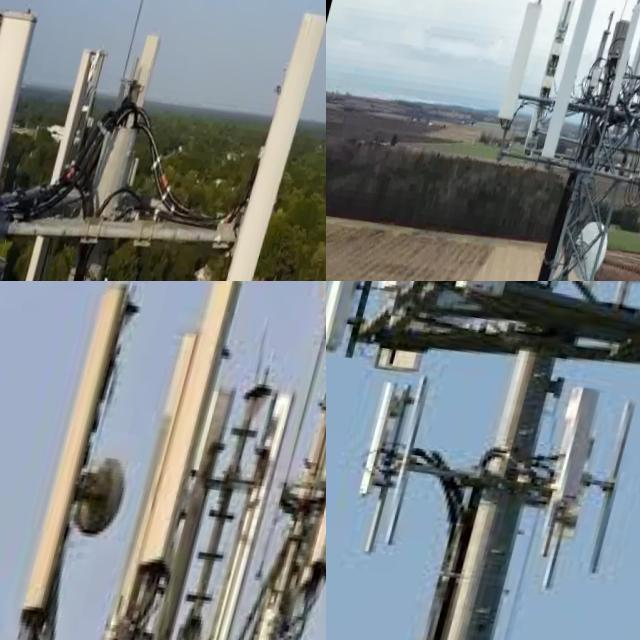GSM Antenna: (17, 281, 136, 616), (141, 281, 251, 578), (193, 382, 301, 640), (234, 6, 326, 281), (22, 37, 112, 281), (347, 375, 446, 512), (543, 386, 625, 525), (544, 0, 611, 167), (326, 281, 402, 371), (530, 0, 583, 126), (499, 0, 551, 122), (128, 29, 169, 115), (609, 5, 640, 110), (622, 4, 640, 112)
Microwave Antenna: (78, 437, 148, 558), (566, 208, 627, 281)
